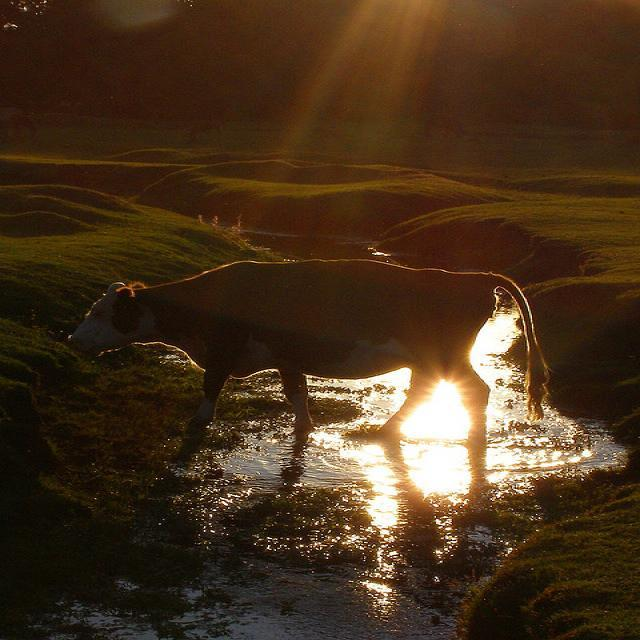cow: (64, 258, 547, 448)
